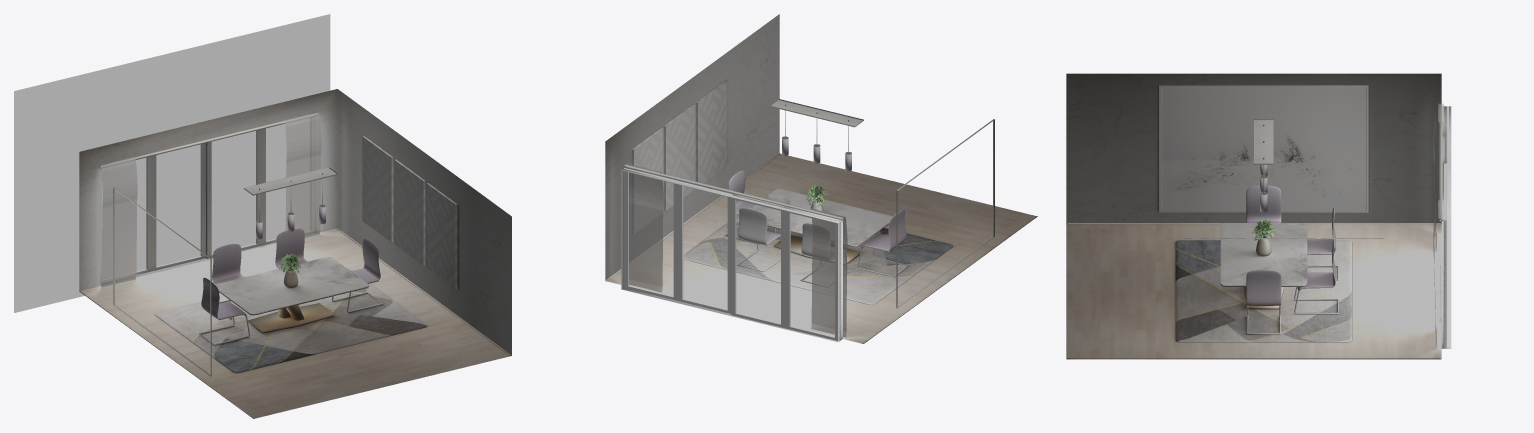
The model's file is modern_dining_room.glb.
The picture shows the model from 3 angles, left to right: view 1: azimuth 30°, elevation 25°; view 2: azimuth 150°, elevation 25°; view 3: azimuth 270°, elevation 25°; orthographic projection. The views are drawn at different scales.
Parts seen in each view (by area): view 1: Backdrop_Backdrop_0, Walls_Walls_0, Modern Dining Room_Floor_0, Carpet_Carpet_0, DiningTable_DiningTable_0, Paintings_Paintings_0, Curtains_Curtains_0, DoorFrame_DoorFrame_0, LightChrome_LightChrome_0, PictureFrame_PictureFrame_0, CurtainPole_CurtainPole_0; view 2: Modern Dining Room_Floor_0, Walls_Walls_0, Carpet_Carpet_0, DoorFrame_DoorFrame_0, Paintings_Paintings_0, DiningTable_DiningTable_0, Curtains_Curtains_0, LightChrome_LightChrome_0, PictureFrame_PictureFrame_0, CurtainPole_CurtainPole_0; view 3: Modern Dining Room_Floor_0, Walls_Walls_0, Picture_Picture_0, Carpet_Carpet_0, DiningTable_DiningTable_0, DoorFrame_DoorFrame_0, PictureFrame_PictureFrame_0, LightChrome_LightChrome_0, Curtains_Curtains_0, CurtainPole_CurtainPole_0.
Boxes of the visible parts, bbox=[...] form: Backdrop_Backdrop_0: bbox=[14, 14, 330, 312]; Walls_Walls_0: bbox=[79, 89, 511, 355]; Modern Dining Room_Floor_0: bbox=[79, 228, 511, 418]; Carpet_Carpet_0: bbox=[154, 267, 427, 373]; DiningTable_DiningTable_0: bbox=[199, 228, 382, 345]; Paintings_Paintings_0: bbox=[362, 136, 457, 288]; Curtains_Curtains_0: bbox=[99, 112, 321, 287]; DoorFrame_DoorFrame_0: bbox=[100, 116, 316, 285]; LightChrome_LightChrome_0: bbox=[244, 167, 337, 222]; PictureFrame_PictureFrame_0: bbox=[113, 187, 211, 376]; CurtainPole_CurtainPole_0: bbox=[100, 113, 317, 168]; Modern Dining Room_Floor_0: bbox=[605, 153, 1037, 343]; Walls_Walls_0: bbox=[605, 14, 779, 279]; Carpet_Carpet_0: bbox=[683, 215, 953, 304]; DoorFrame_DoorFrame_0: bbox=[621, 167, 842, 342]; Paintings_Paintings_0: bbox=[632, 81, 727, 233]; DiningTable_DiningTable_0: bbox=[725, 170, 908, 287]; Curtains_Curtains_0: bbox=[624, 163, 847, 337]; LightChrome_LightChrome_0: bbox=[770, 99, 863, 154]; PictureFrame_PictureFrame_0: bbox=[896, 119, 994, 308]; CurtainPole_CurtainPole_0: bbox=[625, 165, 843, 220]; Modern Dining Room_Floor_0: bbox=[1066, 223, 1441, 359]; Walls_Walls_0: bbox=[1066, 73, 1441, 223]; Picture_Picture_0: bbox=[1160, 87, 1366, 211]; Carpet_Carpet_0: bbox=[1175, 240, 1351, 342]; DiningTable_DiningTable_0: bbox=[1220, 185, 1338, 334]; DoorFrame_DoorFrame_0: bbox=[1441, 106, 1451, 348]; PictureFrame_PictureFrame_0: bbox=[1159, 85, 1368, 212]; LightChrome_LightChrome_0: bbox=[1254, 119, 1273, 194]; Curtains_Curtains_0: bbox=[1433, 103, 1443, 346]; CurtainPole_CurtainPole_0: bbox=[1439, 104, 1442, 221].
Size of the model in its own units: 6.98 by 4.68 by 8.05.
17 materials, 14 textured.
